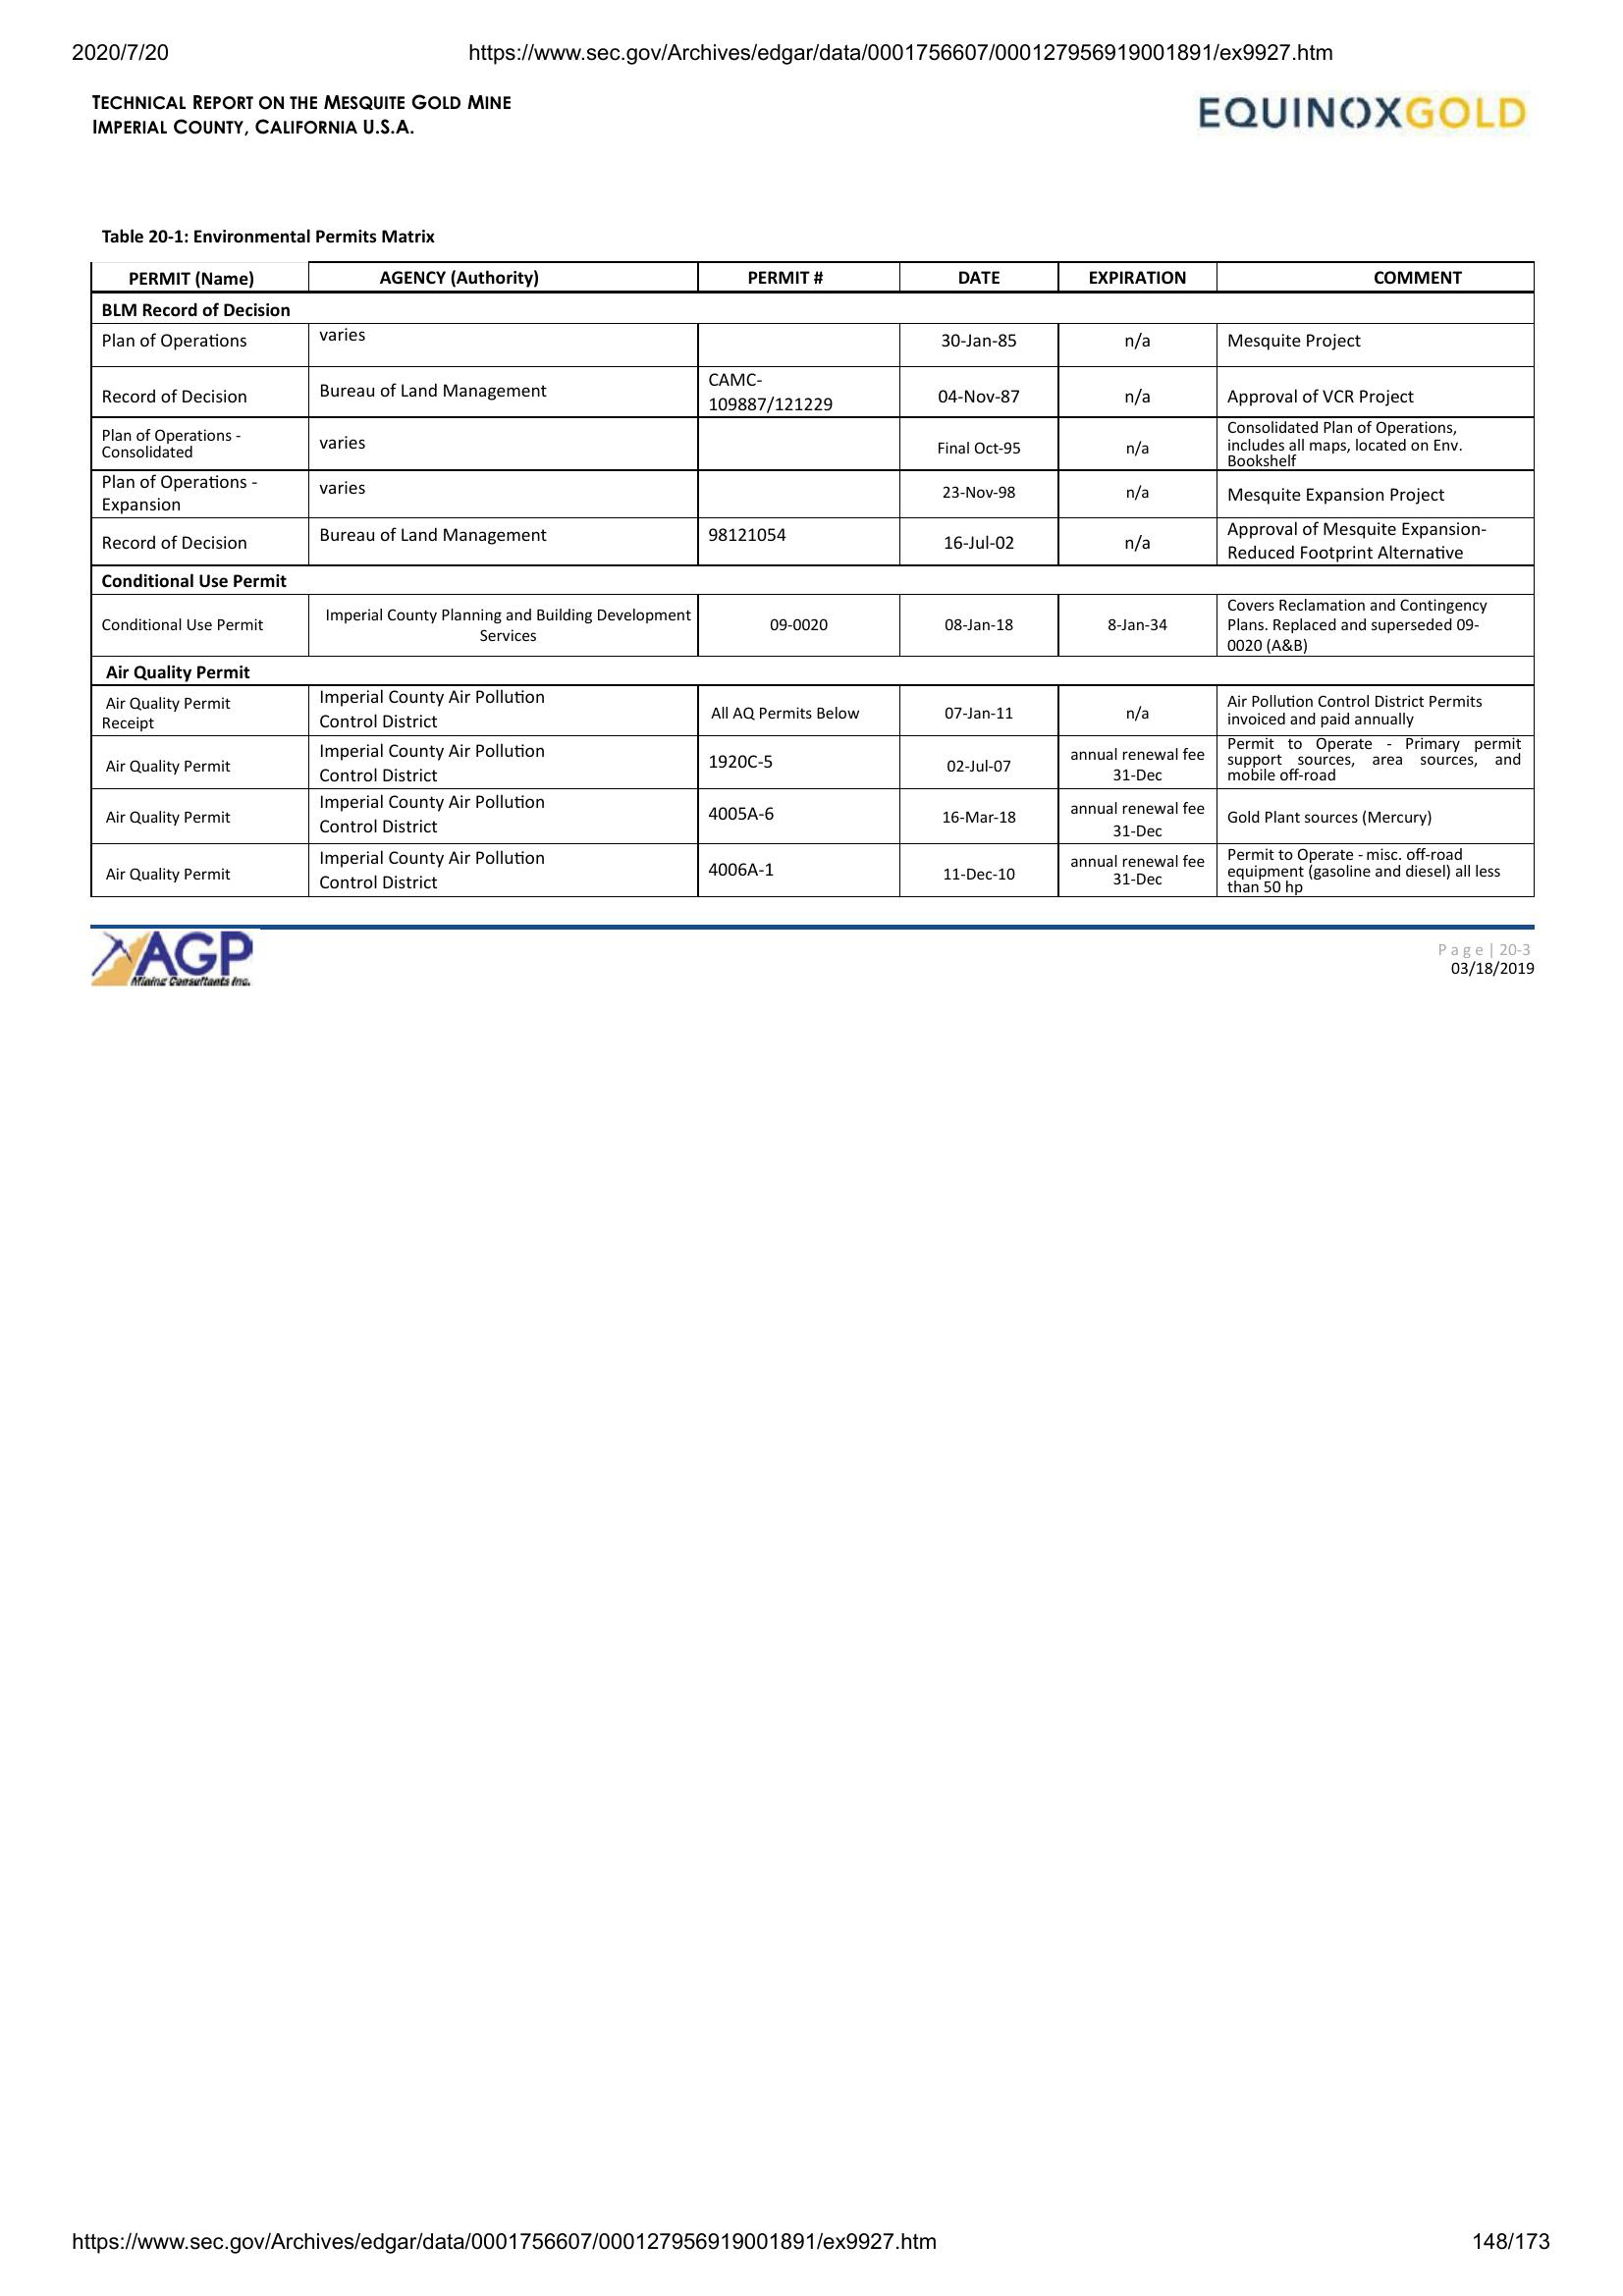table: (86, 253, 1544, 902)
